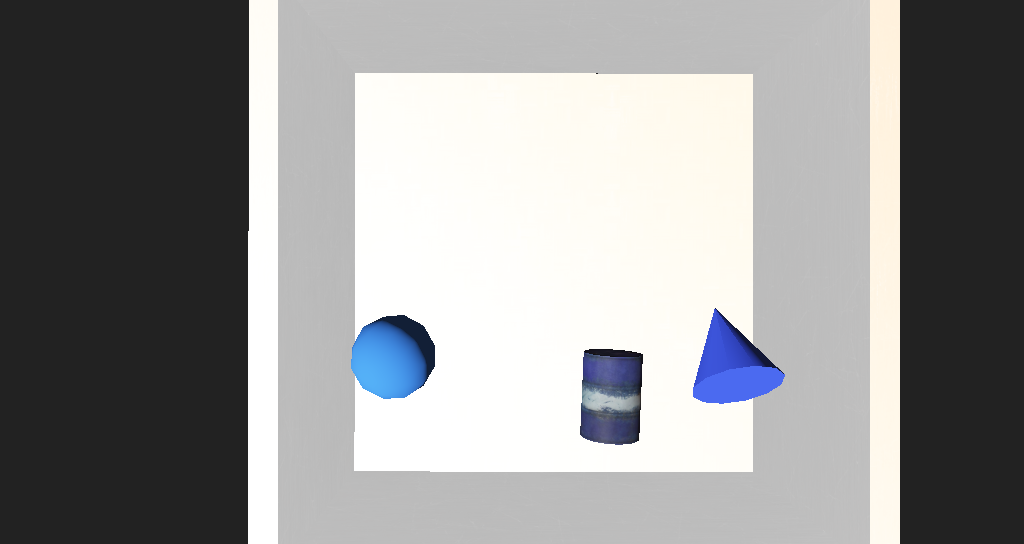cone: (529, 310, 576, 358)
cylinder: (593, 274, 674, 346)
sphere: (350, 293, 418, 336)
